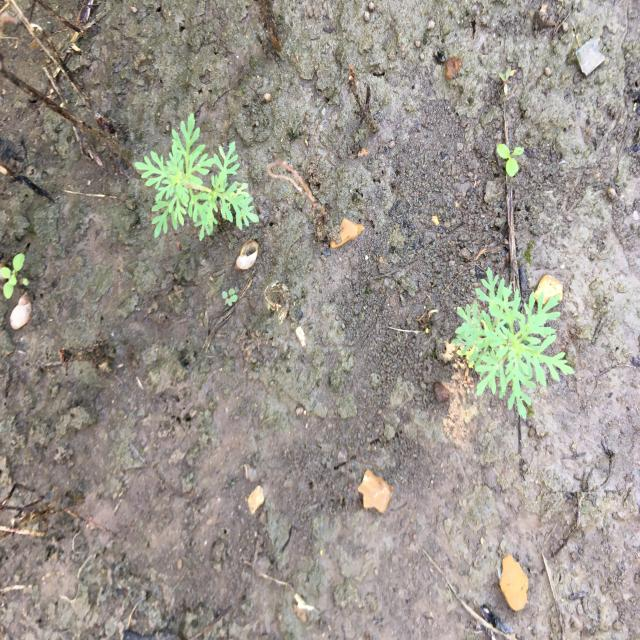Ragweed: (449, 264, 576, 424), (131, 110, 263, 243)
